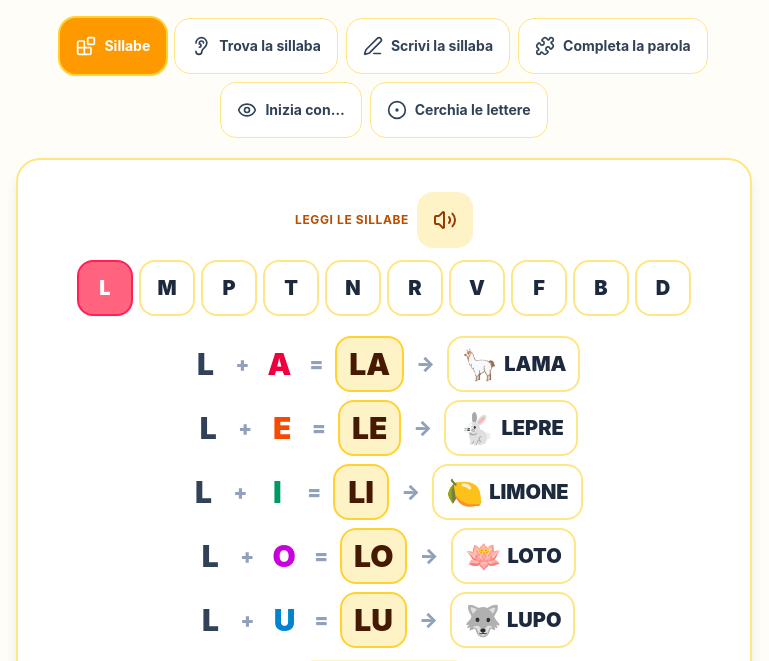
Scenario: Trova la sillaba › disables a wrong answer, counts it and repeats the syllable
Click the button "Trova la sillaba": (256, 46) x1=174 y1=18 x2=338 y2=74
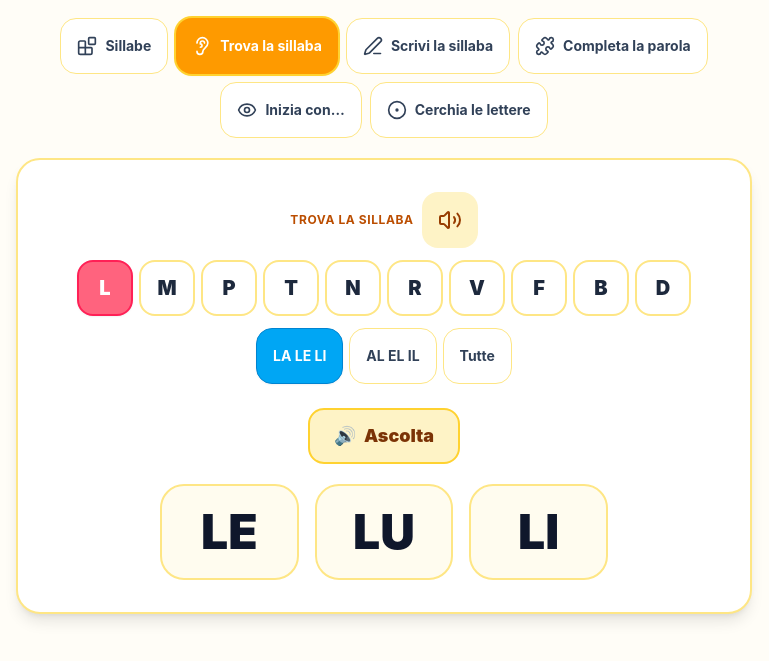
Click the button with aria-label "Sillaba ": (229, 532) x1=160 y1=484 x2=299 y2=580
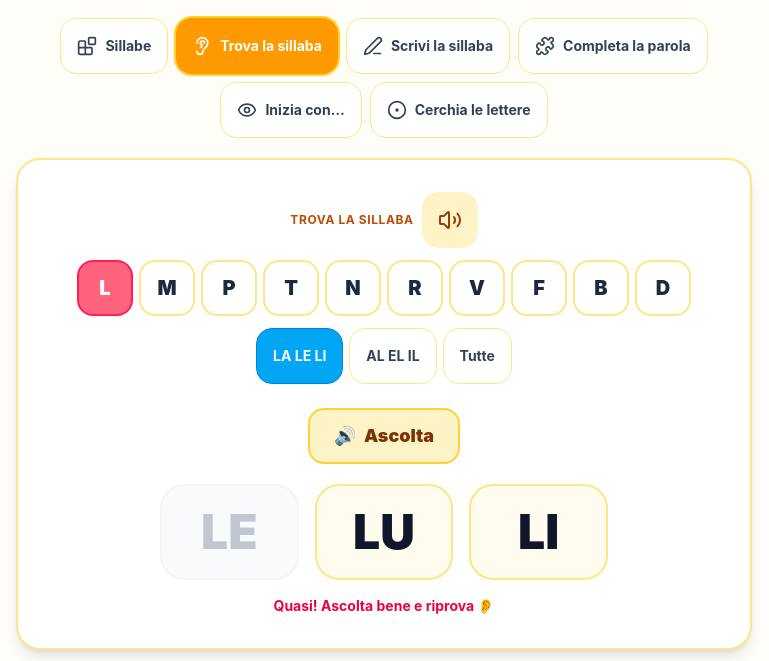
expect the button with aria-label "Sillaba " is disabled: met, box x1=160 y1=484 x2=299 y2=580
expect the message shows "Quasi": met, box x1=274 y1=597 x2=494 y2=614
